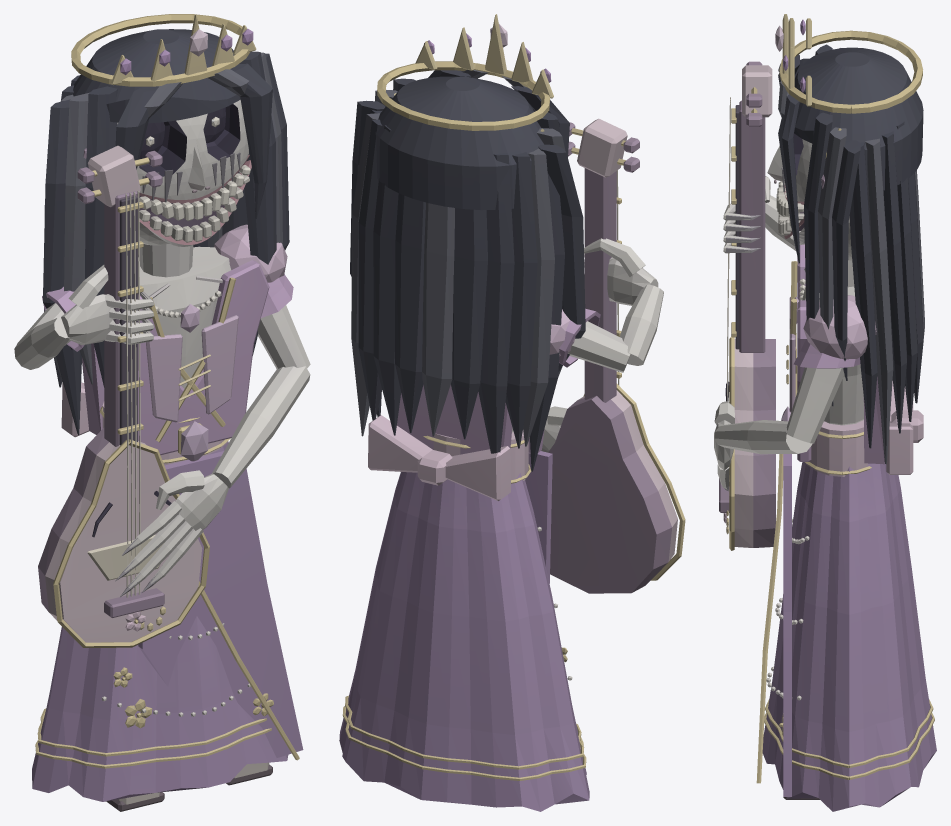
Rendered from MimicPrincess.glb.
3 renders of one model, left to right at view 1: azimuth 30°, elevation 25°; view 2: azimuth 150°, elevation 25°; view 3: azimuth 270°, elevation 25°, orthographic. The views are drawn at different scales.
Visible parts, largest first — view 1: Body, Head, ArmL, ArmR, LegR, LegL; view 2: Body, Head, ArmR, ArmL; view 3: Body, Head, ArmL, ArmR.
Part boxes in pixels (x1,y1,x2,y2): Body: (32,145,303,801); Head: (43,14,289,434); ArmL: (115,224,310,597); ArmR: (14,265,153,369); LegR: (106,792,164,811); LegL: (226,762,272,785); Body: (339,118,685,811); Head: (350,14,585,471); ArmR: (549,238,663,372); ArmL: (541,406,566,452); Body: (719,61,936,811); Head: (767,14,924,464); ArmL: (714,295,876,491); ArmR: (723,176,795,253).
Bounding box in the file's own units: 3.1 × 7.69 × 2.07.
